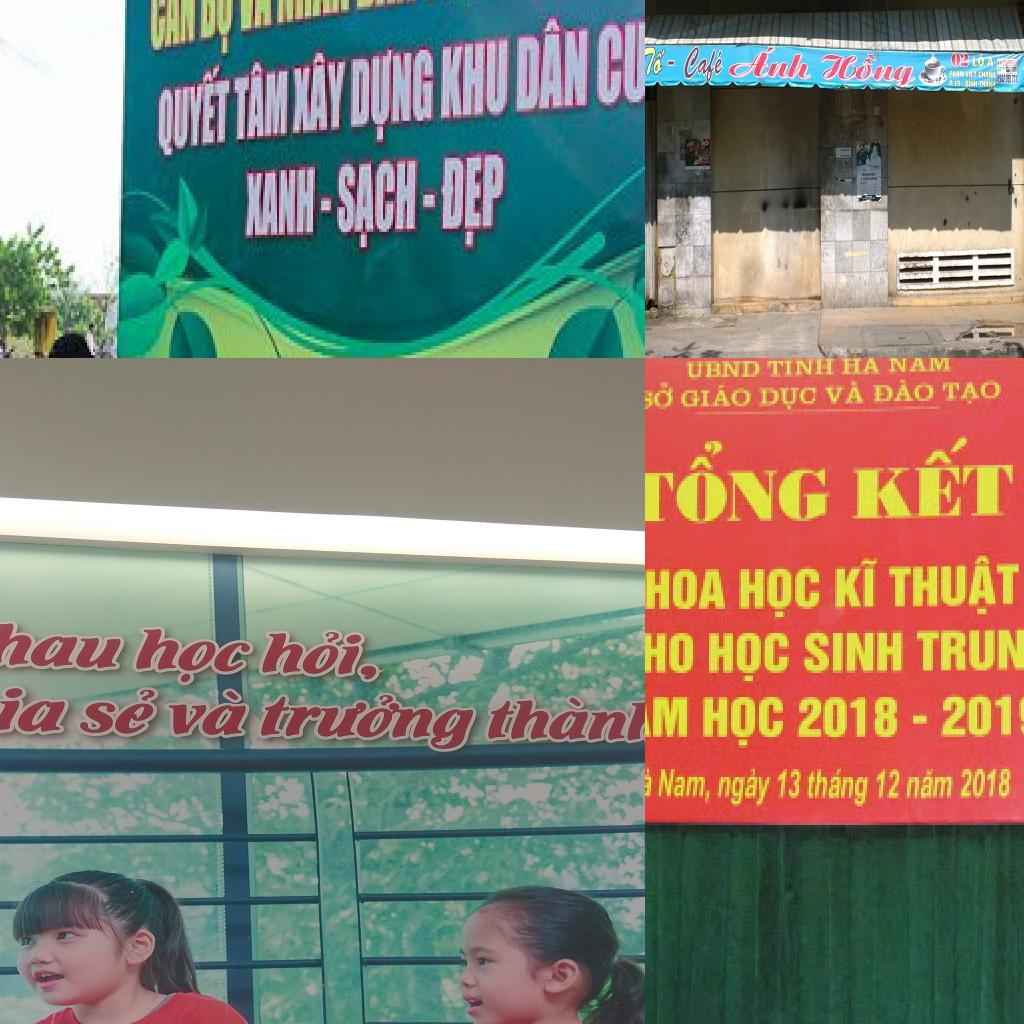text: (645, 430, 831, 531), (849, 430, 1015, 529), (254, 690, 484, 754), (349, 44, 435, 148), (122, 622, 257, 686), (885, 555, 1024, 617), (333, 158, 419, 253), (515, 12, 591, 118), (0, 617, 133, 675), (157, 62, 233, 161), (437, 152, 507, 254), (254, 629, 384, 683), (795, 686, 897, 750), (439, 34, 511, 124), (699, 689, 785, 756), (289, 47, 351, 139), (243, 167, 319, 241), (799, 628, 909, 676), (233, 56, 291, 145), (917, 627, 1024, 675), (735, 564, 821, 622), (935, 686, 1024, 742), (160, 688, 258, 738), (597, 9, 645, 111), (72, 686, 166, 738), (701, 630, 791, 684), (819, 47, 920, 91), (0, 679, 76, 737), (645, 563, 731, 611), (726, 45, 814, 85), (805, 764, 873, 812), (829, 556, 883, 612), (149, 0, 199, 59), (645, 680, 691, 742), (681, 380, 753, 417), (939, 377, 1003, 417), (869, 377, 937, 414), (657, 766, 715, 809), (715, 769, 775, 809), (959, 766, 1017, 806), (645, 630, 695, 675), (201, 0, 235, 65), (275, 0, 353, 28), (757, 385, 819, 417), (682, 42, 727, 86), (821, 380, 867, 420), (905, 766, 957, 801), (765, 358, 839, 382), (683, 358, 761, 380), (237, 0, 275, 37), (885, 358, 953, 377), (873, 766, 907, 804), (775, 764, 807, 804), (645, 379, 679, 414), (645, 44, 667, 78), (841, 358, 881, 376), (645, 763, 659, 803), (950, 50, 970, 69), (997, 74, 1018, 84), (972, 51, 985, 67), (978, 69, 996, 79), (949, 69, 966, 79), (979, 79, 996, 89), (964, 78, 978, 88), (965, 69, 977, 79), (986, 54, 994, 68), (666, 59, 676, 67), (954, 79, 962, 88), (1003, 59, 1012, 67), (1012, 58, 1018, 68), (948, 79, 954, 88), (870, 176, 878, 182), (862, 172, 869, 177), (863, 177, 870, 182), (869, 172, 877, 176), (860, 178, 862, 182), (962, 83, 964, 86)
